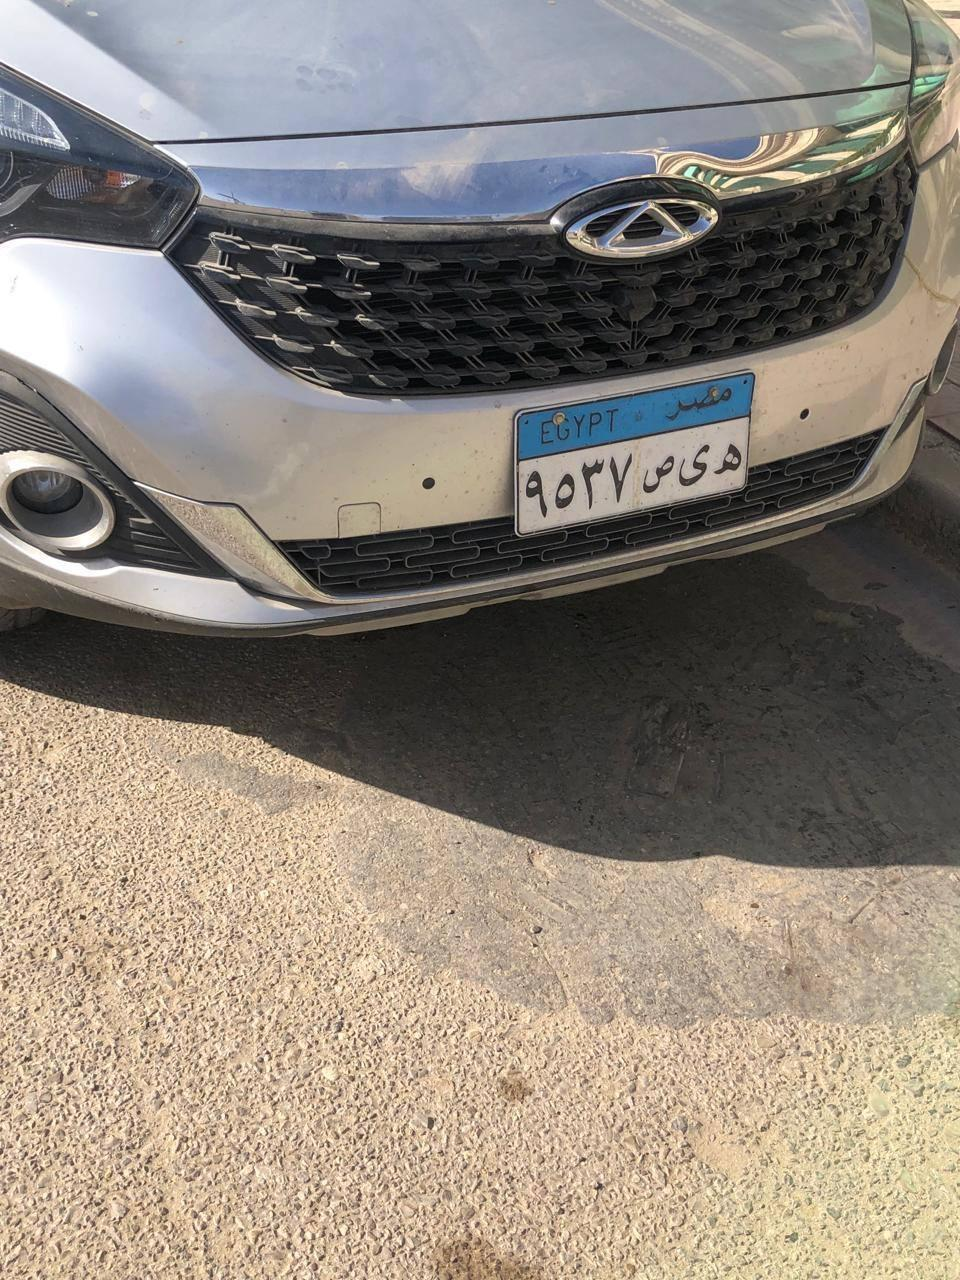3: (580, 458, 604, 507)
5: (554, 468, 574, 508)
7: (606, 452, 632, 505)
9: (524, 466, 548, 520)
Heeh: (713, 444, 743, 478)
License Plate: (497, 366, 759, 540)
Saad: (640, 455, 675, 495)
Yeeh: (677, 444, 712, 486)
